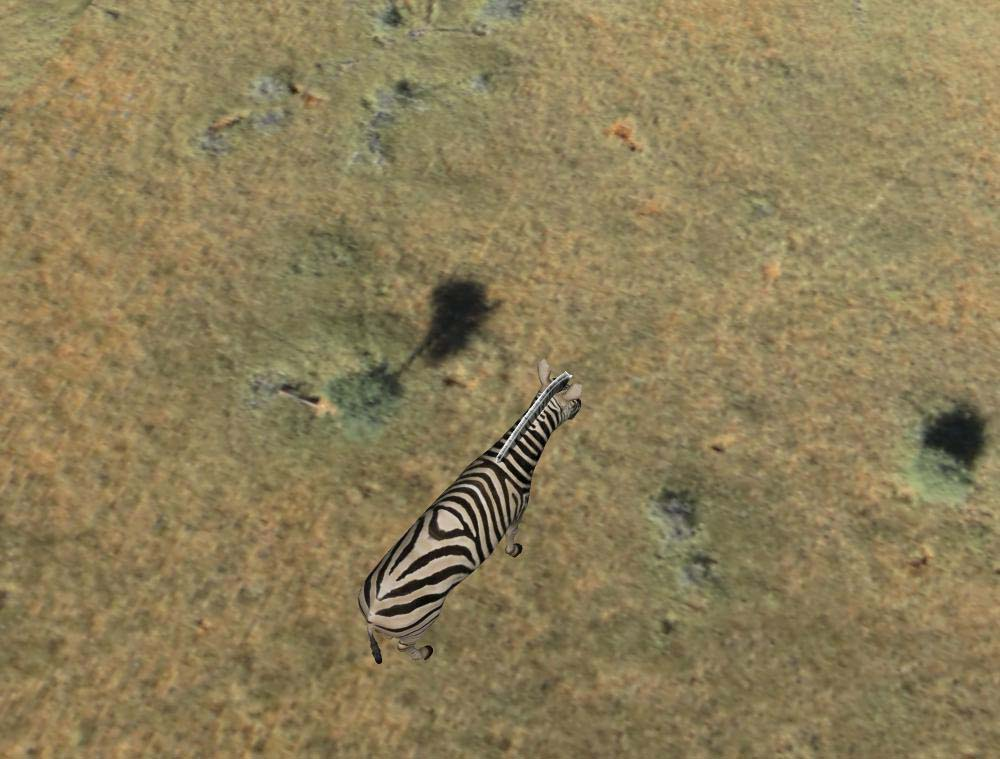zebra: (361, 348, 586, 667)
